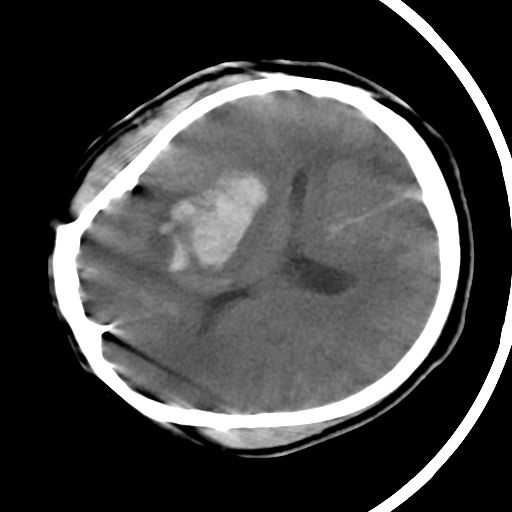a: (145, 160, 283, 284)
